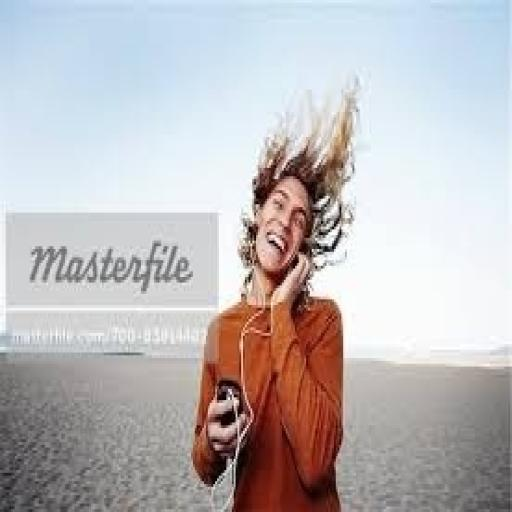listening_to_music: (189, 76, 364, 509)
